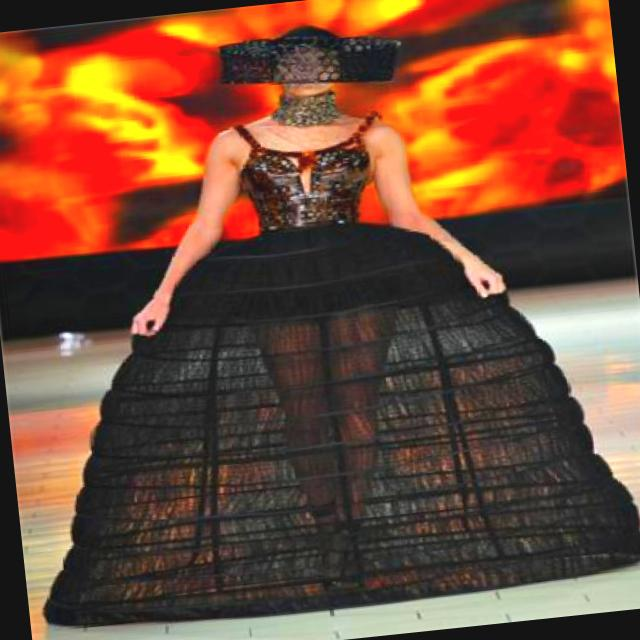Person: (8, 0, 618, 621)
